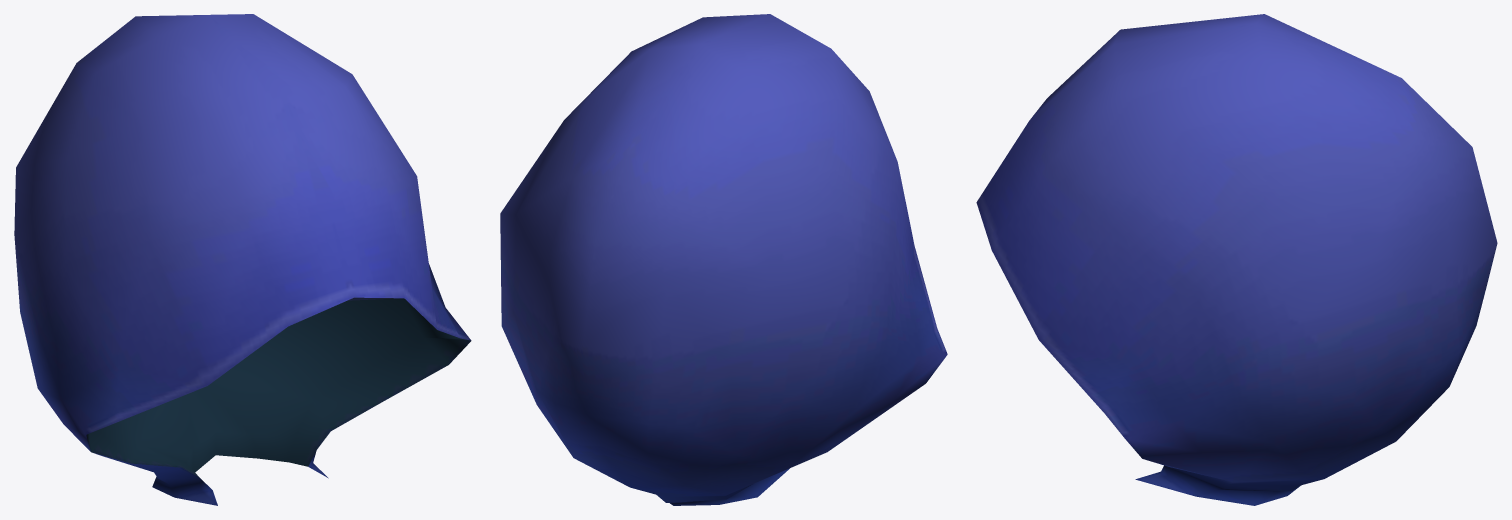
File: helm0041.fbx
3 renders of one model, left to right at view 1: azimuth 30°, elevation 25°; view 2: azimuth 150°, elevation 25°; view 3: azimuth 270°, elevation 25°, orthographic. The views are drawn at different scales.
Parts seen in each view (by area): view 1: helm0041_m; view 2: helm0041_m; view 3: helm0041_m.
Part boxes in pixels (left/top/right/bottom): helm0041_m: left=14, top=14, right=471, bottom=505; helm0041_m: left=500, top=14, right=947, bottom=505; helm0041_m: left=976, top=14, right=1497, bottom=505.
Size of the model in its own units: 0.4268 by 0.4828 by 0.5002.
Materials: 1 (1 with a texture image).
